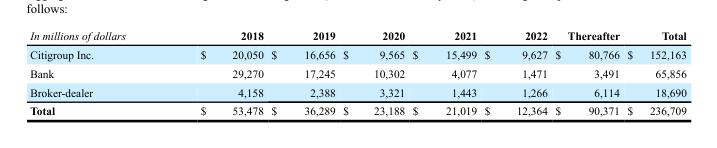table: (29, 28, 685, 116)
table column: (29, 28, 162, 116), (162, 28, 266, 116), (266, 28, 338, 116), (408, 28, 480, 116), (550, 28, 622, 116), (338, 28, 408, 116), (480, 28, 550, 116), (622, 28, 685, 116)
table column header: (29, 28, 685, 44)
table row: (29, 44, 685, 63), (29, 63, 685, 82), (29, 82, 685, 101), (29, 28, 685, 44), (29, 101, 685, 116)
